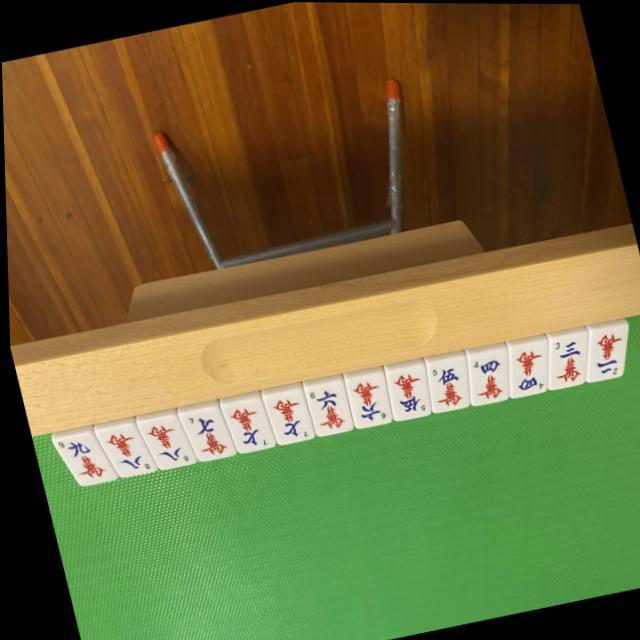sc2: (584, 324, 626, 380)
sc3: (544, 334, 585, 387)
sc4: (462, 348, 506, 402), (506, 340, 547, 394)
sc5: (384, 363, 426, 418), (424, 356, 466, 411)
sc6: (304, 380, 348, 433), (346, 371, 386, 426)
sc7: (182, 405, 228, 459), (225, 396, 268, 452), (264, 388, 306, 443)
sc8: (98, 423, 148, 479), (141, 414, 188, 469)
sc9: (53, 430, 104, 484)
